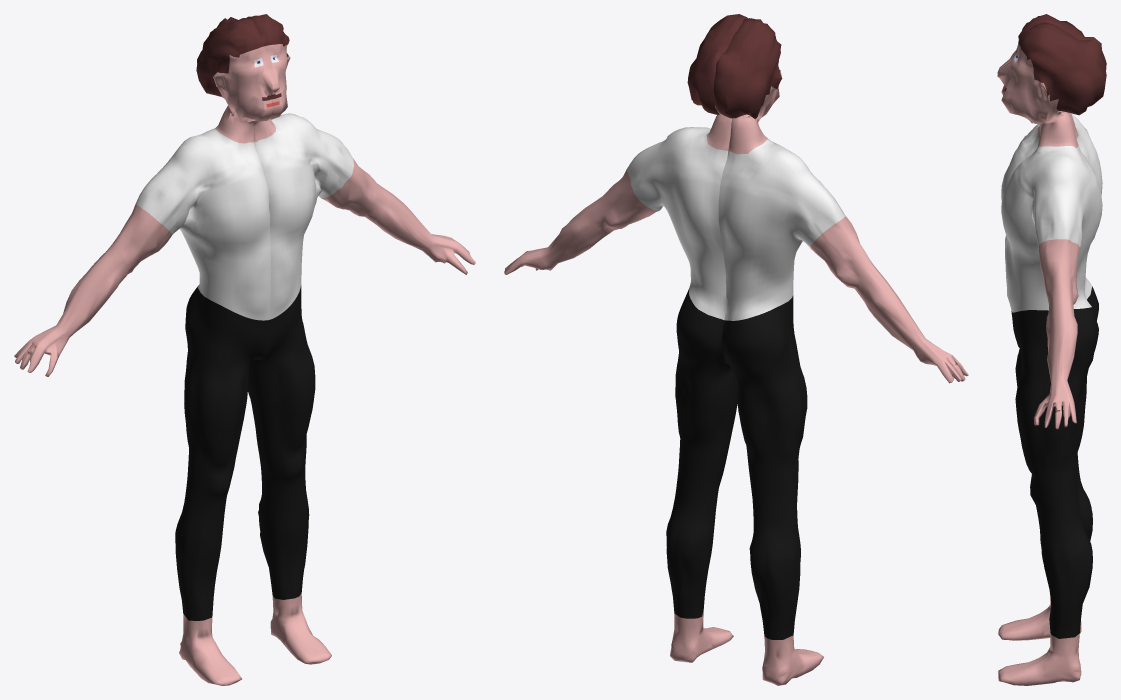
File: BASEmodel.fbx
3 views of the same model, side by side, from view 1: azimuth 30°, elevation 25°; view 2: azimuth 150°, elevation 25°; view 3: azimuth 270°, elevation 25° (orthographic).
Visible parts, largest first — view 1: Cube; view 2: Cube; view 3: Cube.
Boxes of the visible parts, bbox=[...] form: Cube: bbox=[14, 14, 475, 685]; Cube: bbox=[504, 14, 968, 685]; Cube: bbox=[997, 14, 1106, 685].
Bounding box in the file's own units: 363 × 490 × 76.24.
